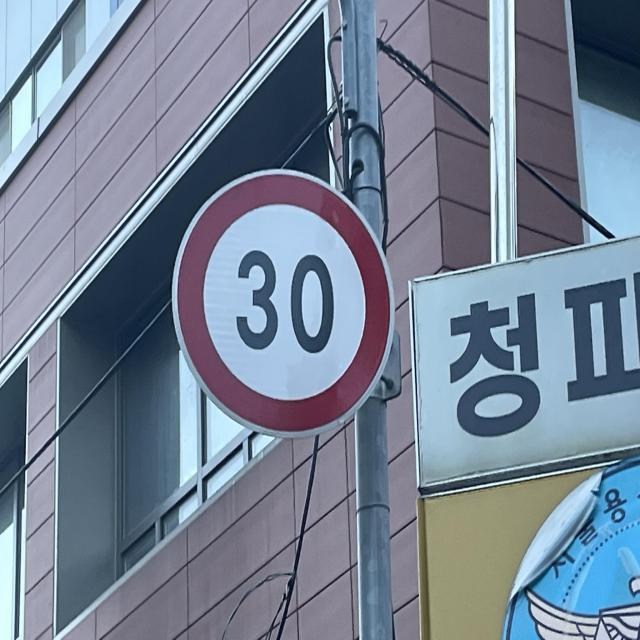speed_limit_30: (174, 166, 390, 436)
